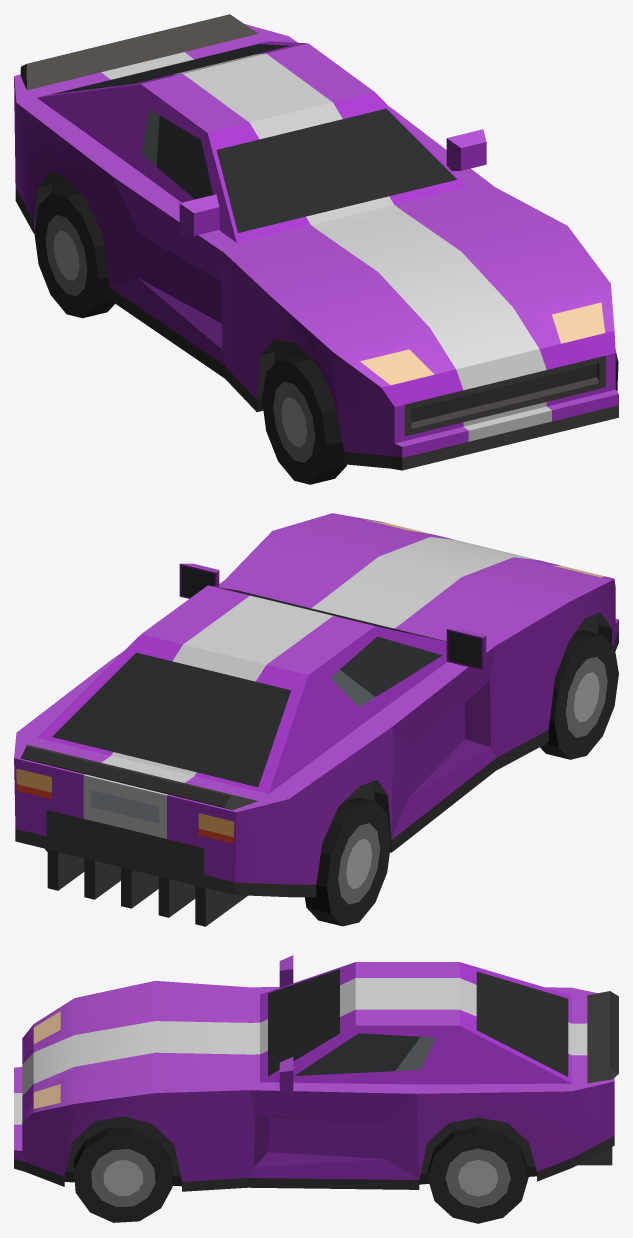
The model's file is MuscleCar_Purple.fbx.
3 renders of one model, top to bottom at view 1: azimuth 30°, elevation 25°; view 2: azimuth 150°, elevation 25°; view 3: azimuth 270°, elevation 25°, orthographic. The views are drawn at different scales.
Visible parts, largest first — view 1: SR_Veh_MuscleSports_Purple, SR_Veh_MuscleSports_Wheel_FR, SR_Veh_MuscleSports_Wheel_RR; view 2: SR_Veh_MuscleSports_Purple, SR_Veh_MuscleSports_Wheel_RR, SR_Veh_MuscleSports_Wheel_FR; view 3: SR_Veh_MuscleSports_Purple, SR_Veh_MuscleSports_Wheel_RL, SR_Veh_MuscleSports_Wheel_FL.
Boxes of the visible parts, x1=… form: SR_Veh_MuscleSports_Purple: x1=14, y1=14, x2=618, y2=470; SR_Veh_MuscleSports_Wheel_FR: x1=262, y1=356, x2=346, y2=484; SR_Veh_MuscleSports_Wheel_RR: x1=34, y1=189, x2=114, y2=318; SR_Veh_MuscleSports_Purple: x1=14, y1=513, x2=618, y2=926; SR_Veh_MuscleSports_Wheel_RR: x1=305, y1=797, x2=391, y2=926; SR_Veh_MuscleSports_Wheel_FR: x1=540, y1=630, x2=618, y2=759; SR_Veh_MuscleSports_Purple: x1=14, y1=955, x2=618, y2=1191; SR_Veh_MuscleSports_Wheel_RL: x1=427, y1=1126, x2=528, y2=1223; SR_Veh_MuscleSports_Wheel_FL: x1=74, y1=1127, x2=172, y2=1222.
Size of the model in its own units: 338 by 238 by 748.
1 material, 1 textured.
